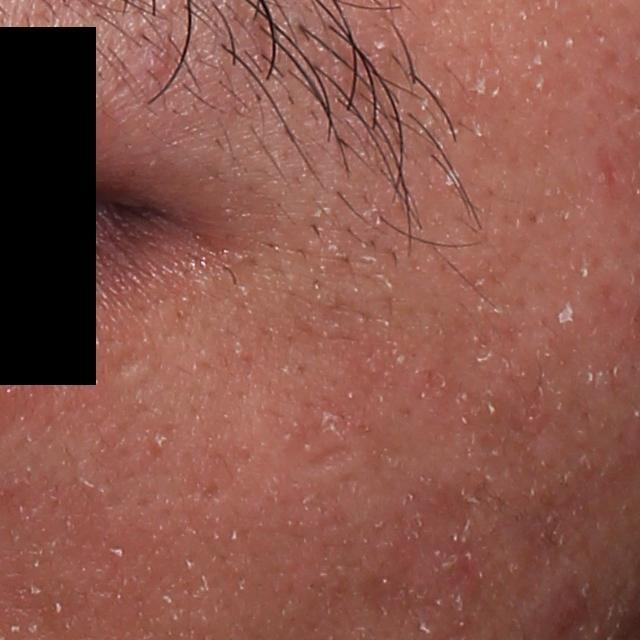atrophic_scar: (303, 448, 353, 471)
papule: (548, 580, 595, 632), (139, 32, 171, 86)
